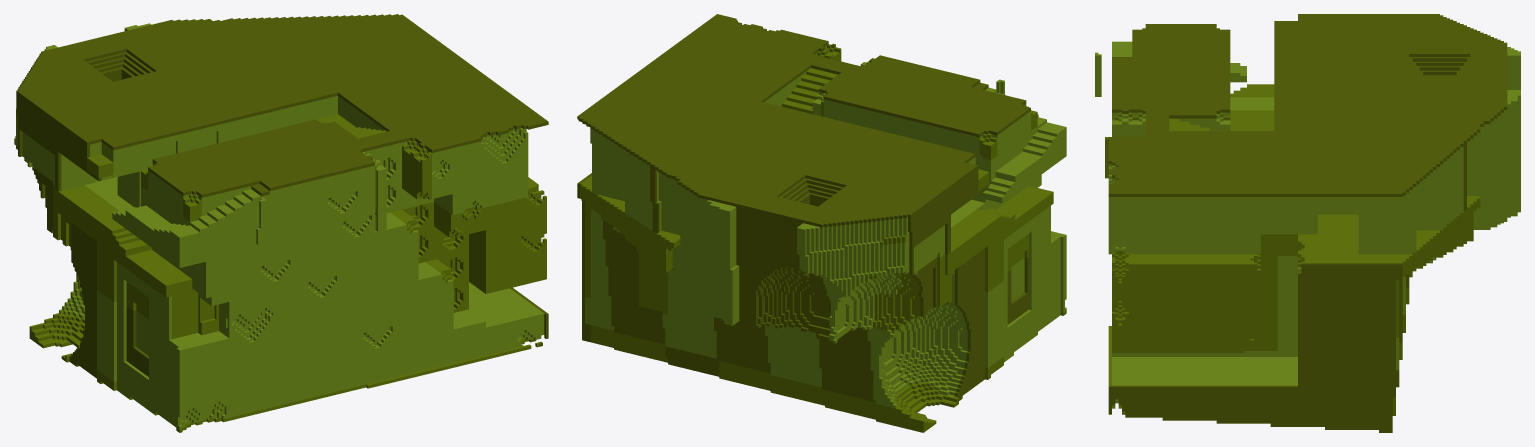
File: lvl_1.obj
The picture shows the model from 3 angles, left to right: view 1: azimuth 30°, elevation 25°; view 2: azimuth 150°, elevation 25°; view 3: azimuth 270°, elevation 25°; orthographic projection. The views are drawn at different scales.
Parts seen in each view (by area): view 1: lvl_1; view 2: lvl_1; view 3: lvl_1.
Boxes of the visible parts, x1,y1,x2,y2 form: lvl_1: (14, 14, 548, 432); lvl_1: (577, 14, 1066, 432); lvl_1: (1095, 14, 1520, 432).
Size of the model in its own units: 126 by 78 by 126.
Materials: 1 (1 with a texture image).
